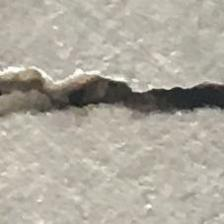Crack: (0, 53, 224, 142)
